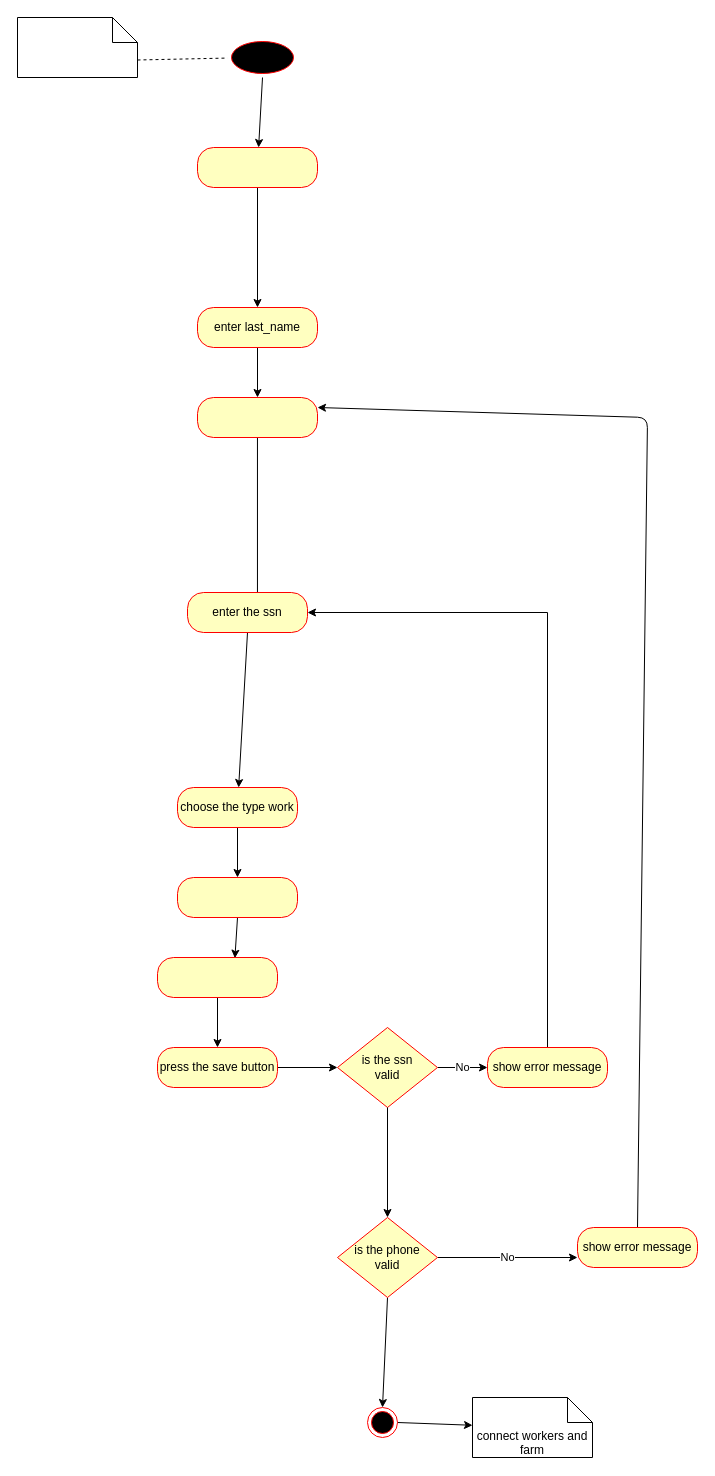
This 715x1476 diagram has some shape labels left out. Here are the shapes that lost their labels. From the top down, the box of each, then its label:
(16, 16, 138, 78): login
(196, 146, 318, 188): enter first_name
(196, 396, 318, 438): enter phone number
(176, 876, 298, 918): choose full/part time
(156, 956, 278, 998): choose is live in farm or not
